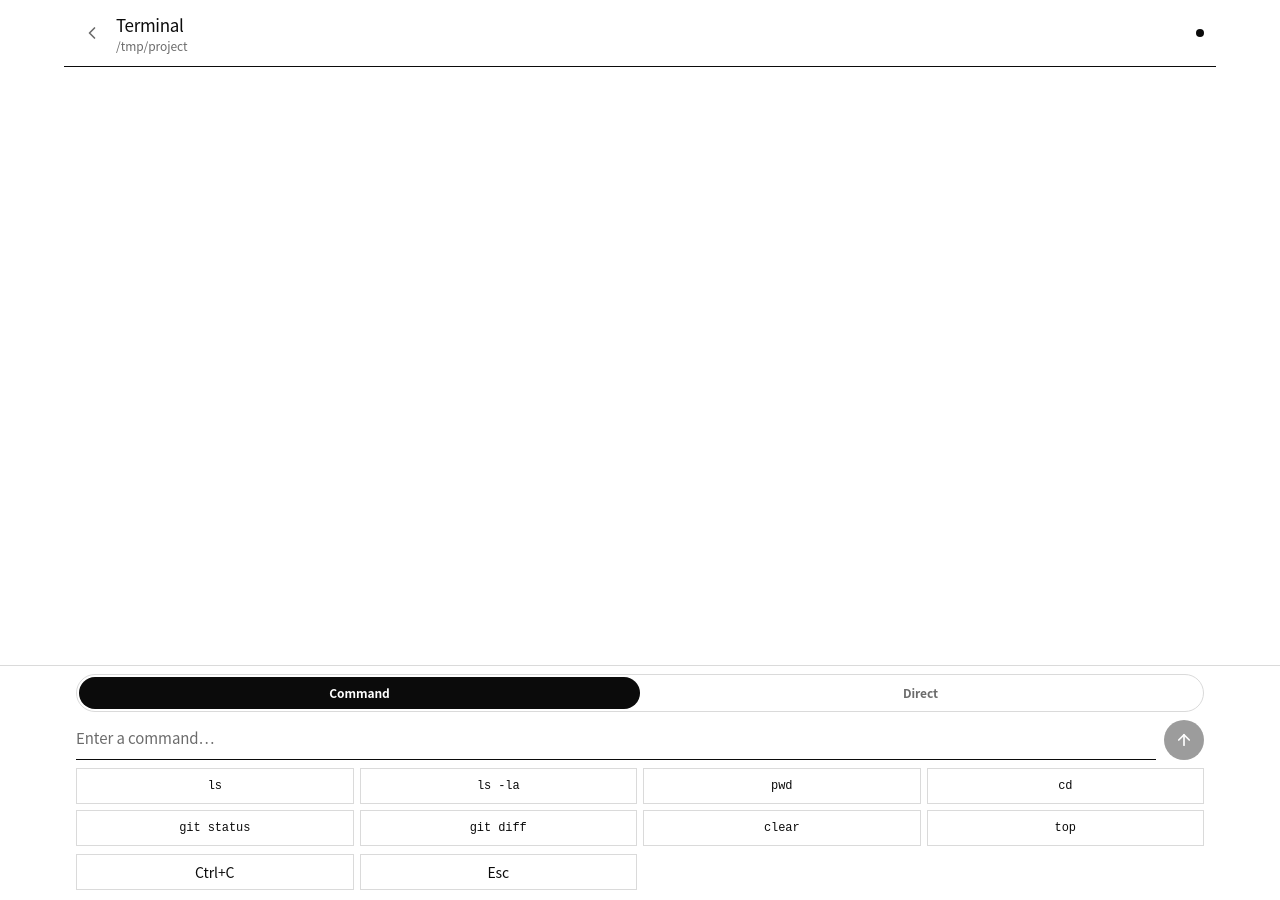
TerminalPage compact command input › keeps the cursor after the space in commands that need an argument
The image size is (1280, 900).
Click the button "cd" at (1065, 786), box [926,768,1204,804]
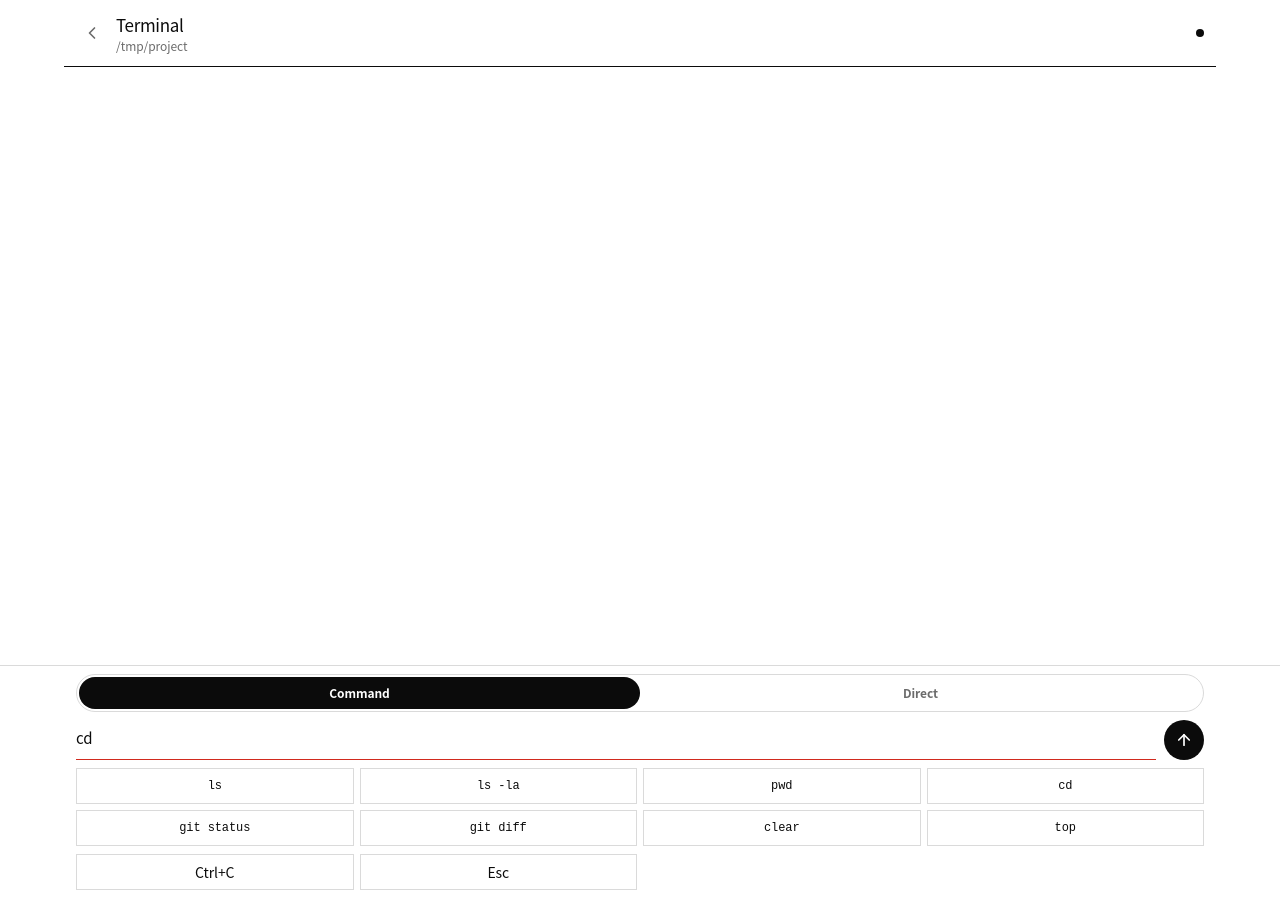
Expected: the text box named "Command input" holds "cd ", [76,720,1156,760]
